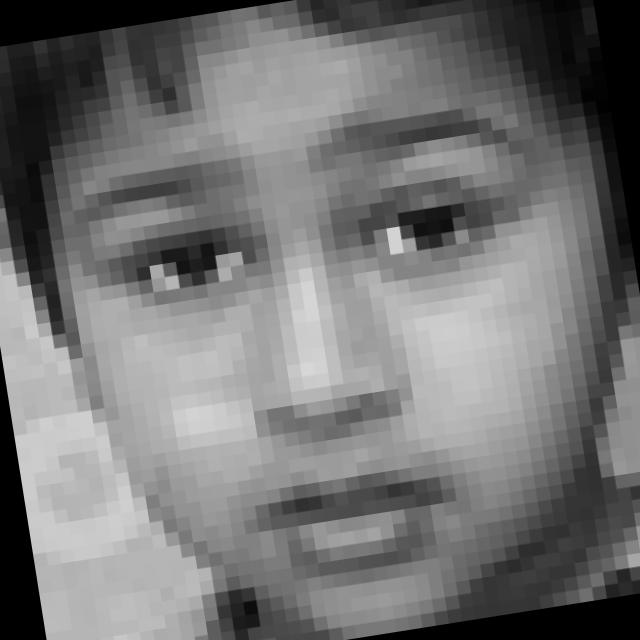neutral: (62, 85, 604, 614)
